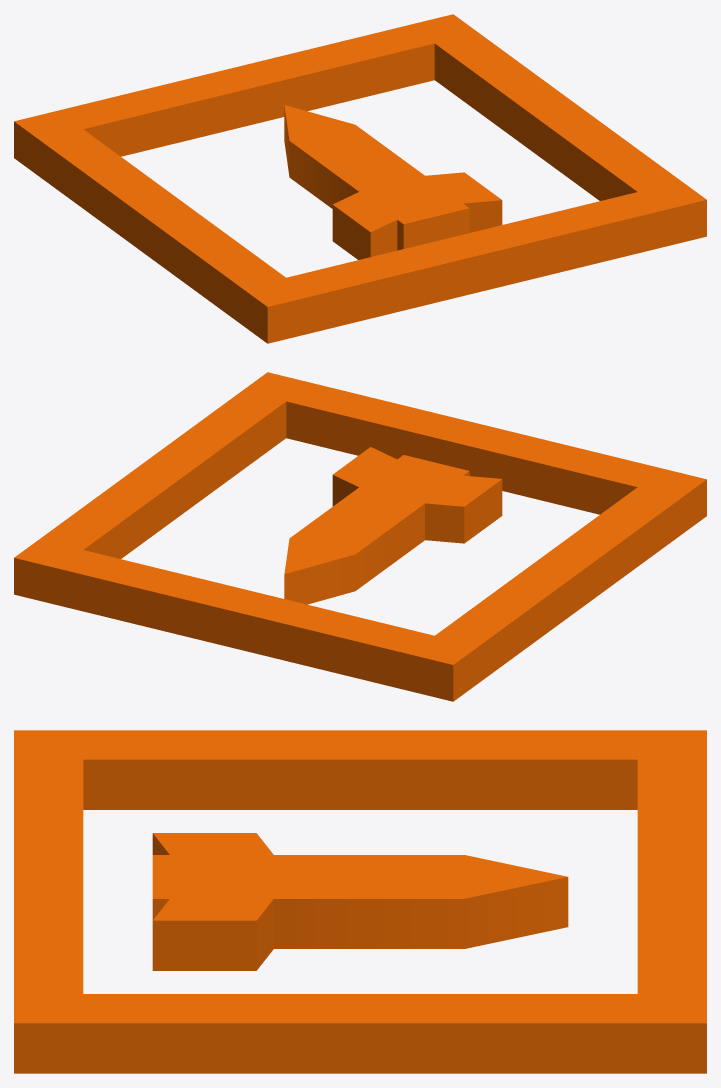
The model's file is pu_rocket.fbx.
3 views of the same model, one above another, from view 1: azimuth 30°, elevation 25°; view 2: azimuth 150°, elevation 25°; view 3: azimuth 270°, elevation 25° (orthographic). The views are drawn at different scales.
Parts seen in each view (by area): view 1: pu_rocket; view 2: pu_rocket; view 3: pu_rocket.
Boxes of the visible parts, bbox=[...] form: pu_rocket: bbox=[14, 14, 706, 343]; pu_rocket: bbox=[14, 372, 706, 701]; pu_rocket: bbox=[14, 730, 706, 1073].
Bounding box in the file's own units: 1 × 0.08 × 1.
